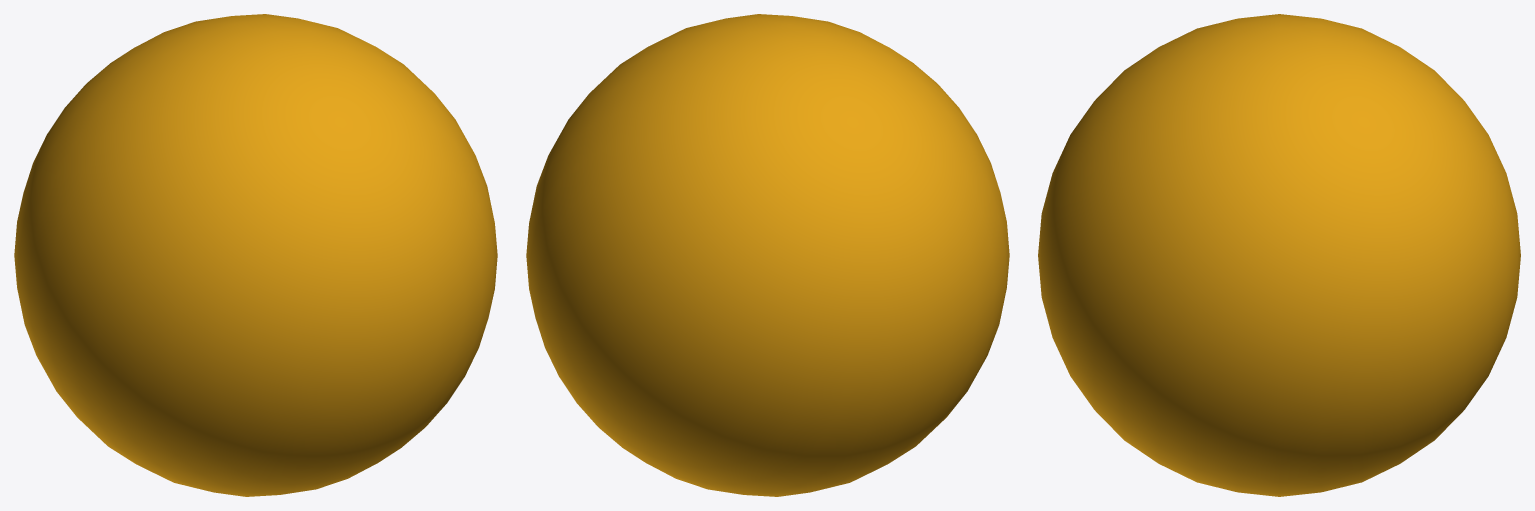
3 views of the same model, side by side, from view 1: azimuth 30°, elevation 25°; view 2: azimuth 150°, elevation 25°; view 3: azimuth 270°, elevation 25° (orthographic).
Parts seen in each view (by area): view 1: Speech Bubble; view 2: Speech Bubble; view 3: Speech Bubble.
Boxes of the visible parts, box(x1,y1,x2,y2) form: Speech Bubble: box(14, 14, 497, 496); Speech Bubble: box(526, 14, 1009, 496); Speech Bubble: box(1038, 14, 1520, 496).
Size of the model in its own units: 0.1775 by 0.1771 by 0.1778.
